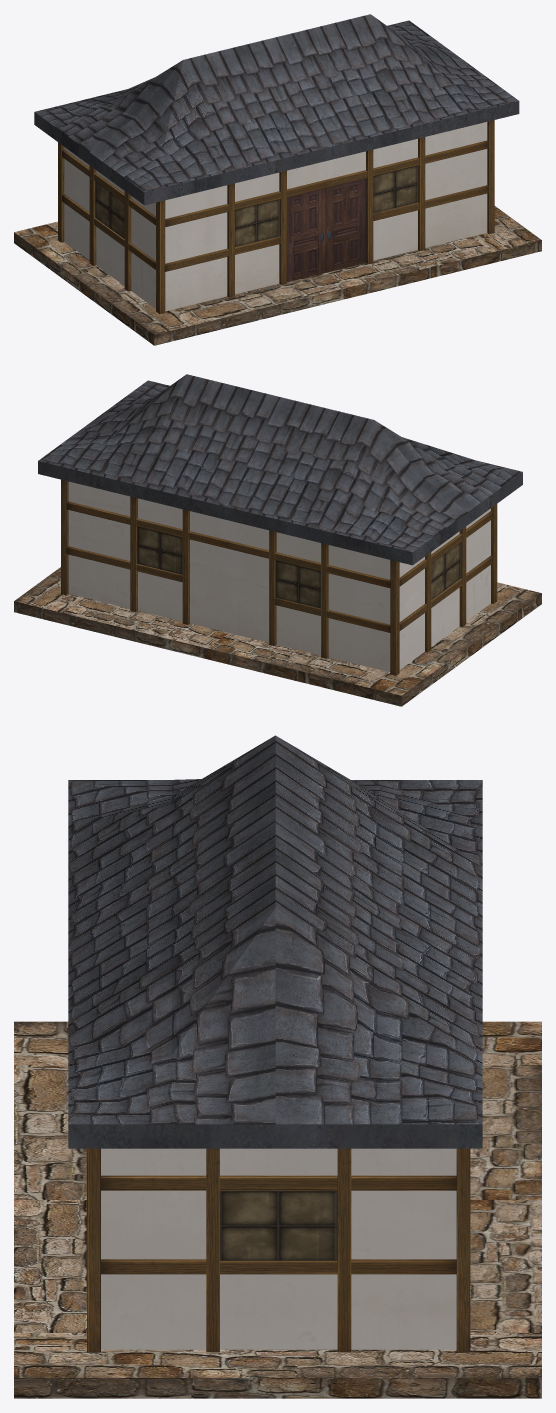
Rendered from pagoda.fbx.
The picture shows the model from 3 angles, top to bottom: view 1: azimuth 30°, elevation 25°; view 2: azimuth 150°, elevation 25°; view 3: azimuth 270°, elevation 25°; orthographic projection. The views are drawn at different scales.
Parts seen in each view (by area): view 1: Plane_001; view 2: Plane_001; view 3: Plane_001.
Part boxes in pixels (bbox=[...]): Plane_001: bbox=[14, 14, 541, 345]; Plane_001: bbox=[14, 374, 541, 706]; Plane_001: bbox=[14, 735, 541, 1398].
Size of the model in its own units: 1144 by 595 by 717.
